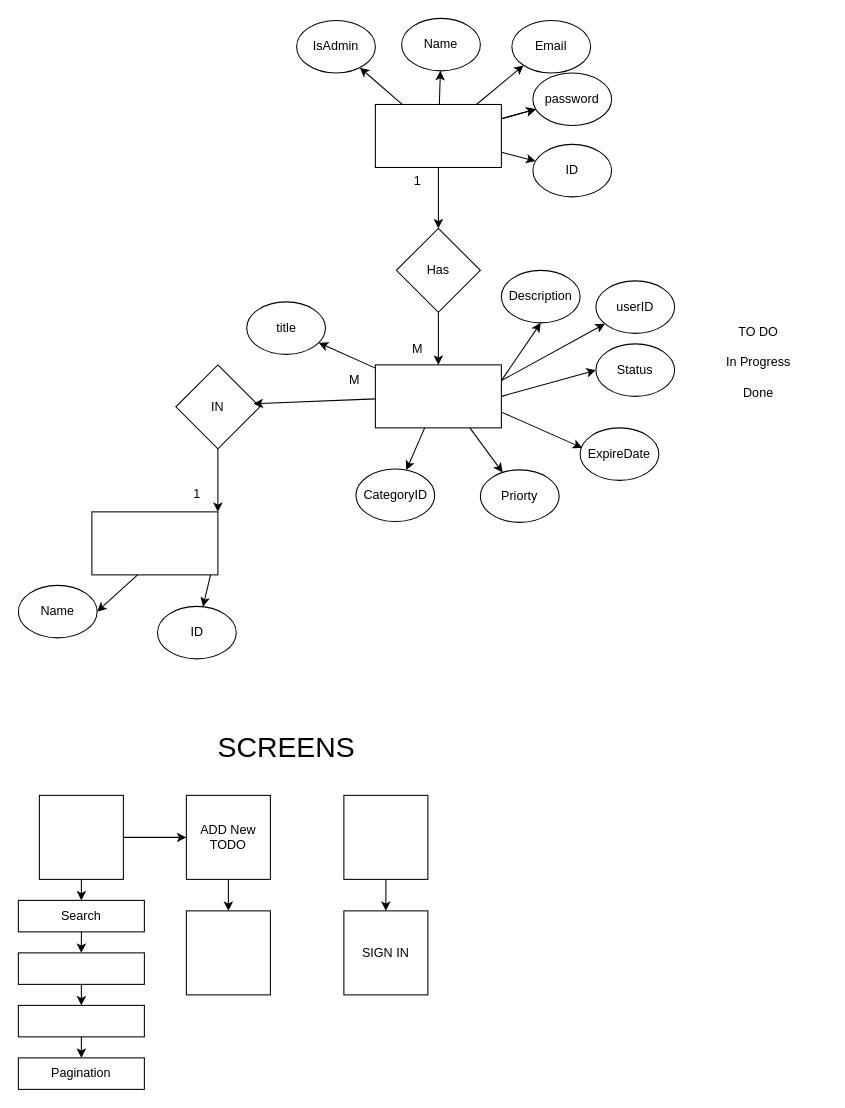
The diagram is 845 pixels wide and 1108 high, and some of its shapes have lost their labels. Each missing label, with the box of its shape:
ALL TO DO: (17, 1004, 144, 1037)
ALL TO DO SCREEN: (38, 794, 123, 879)
Category: (91, 511, 218, 575)
EDIT: (185, 910, 270, 995)
LOGIN: (343, 794, 428, 879)
SORT: (17, 952, 144, 984)
TODO: (374, 364, 501, 428)
USER: (374, 103, 501, 167)
